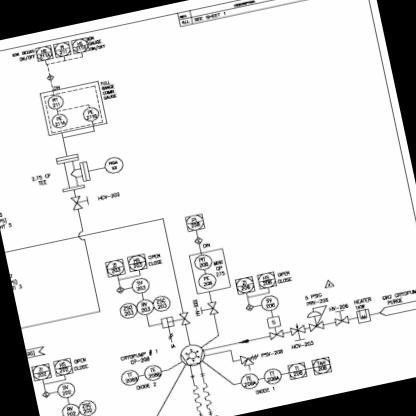LMI: (101, 153, 126, 178), (118, 299, 139, 322), (55, 378, 78, 399), (192, 252, 214, 272), (196, 271, 218, 291), (238, 370, 260, 390), (142, 362, 163, 382), (119, 368, 140, 388), (262, 366, 283, 386), (130, 275, 151, 294), (259, 293, 280, 312), (50, 112, 70, 130), (152, 294, 172, 312), (77, 398, 98, 415), (135, 298, 154, 316), (46, 93, 66, 110), (59, 401, 81, 415), (81, 106, 100, 122)
TAG: (180, 208, 209, 232), (100, 256, 127, 278), (310, 354, 334, 378), (124, 250, 148, 272), (233, 273, 256, 295), (51, 355, 74, 377), (30, 361, 52, 382), (254, 270, 277, 290), (286, 360, 308, 380), (70, 35, 90, 54), (34, 43, 54, 62), (52, 40, 72, 58)
